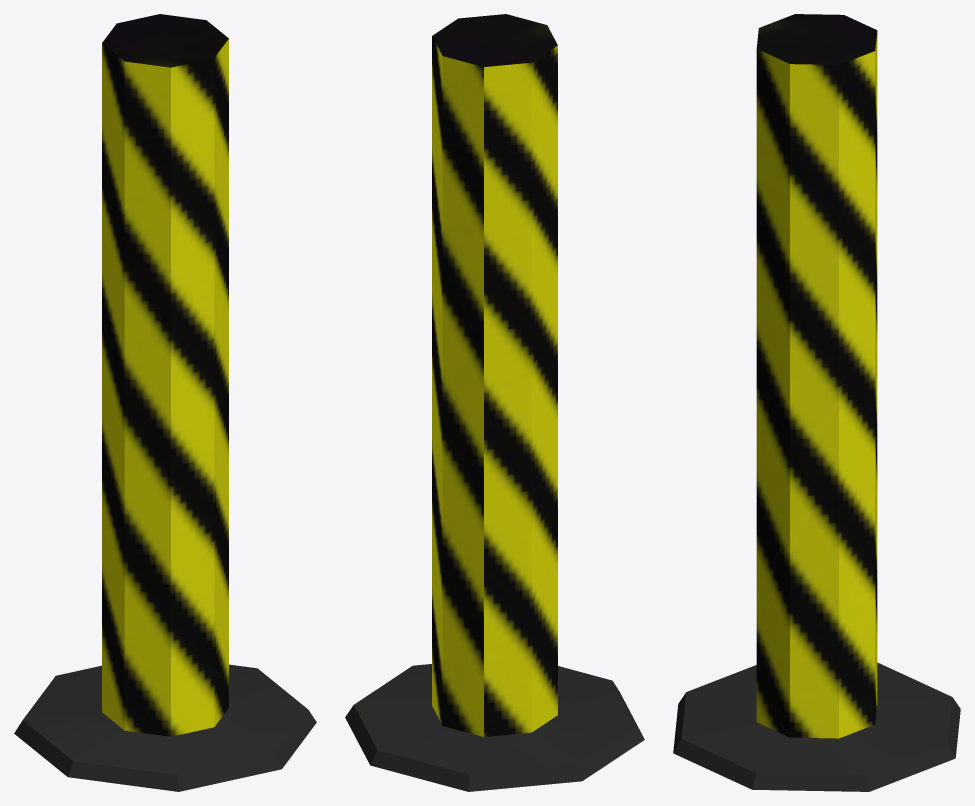
Rendered from road_side_block_2.fbx.
The picture shows the model from 3 angles, left to right: view 1: azimuth 30°, elevation 25°; view 2: azimuth 150°, elevation 25°; view 3: azimuth 270°, elevation 25°; orthographic projection.
Visible parts, largest first — view 1: cone_05; view 2: cone_05; view 3: cone_05.
Part boxes in pixels (<box>): cone_05: <box>14,14,316,791</box>; cone_05: <box>345,14,644,791</box>; cone_05: <box>673,14,960,791</box>.
Size of the model in its own units: 15.55 by 41.27 by 15.55.
